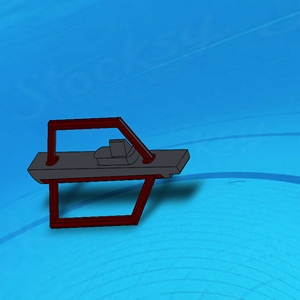submarine: (26, 116, 190, 228)
